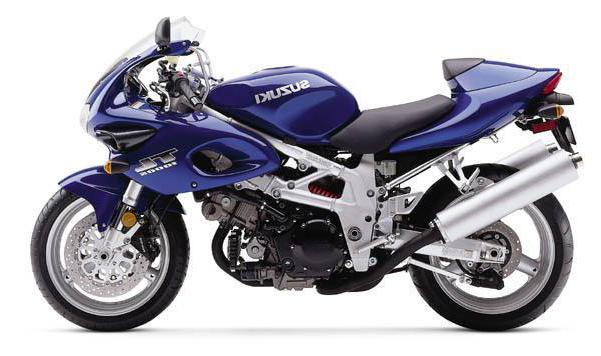motorcycle: (14, 5, 588, 344)
